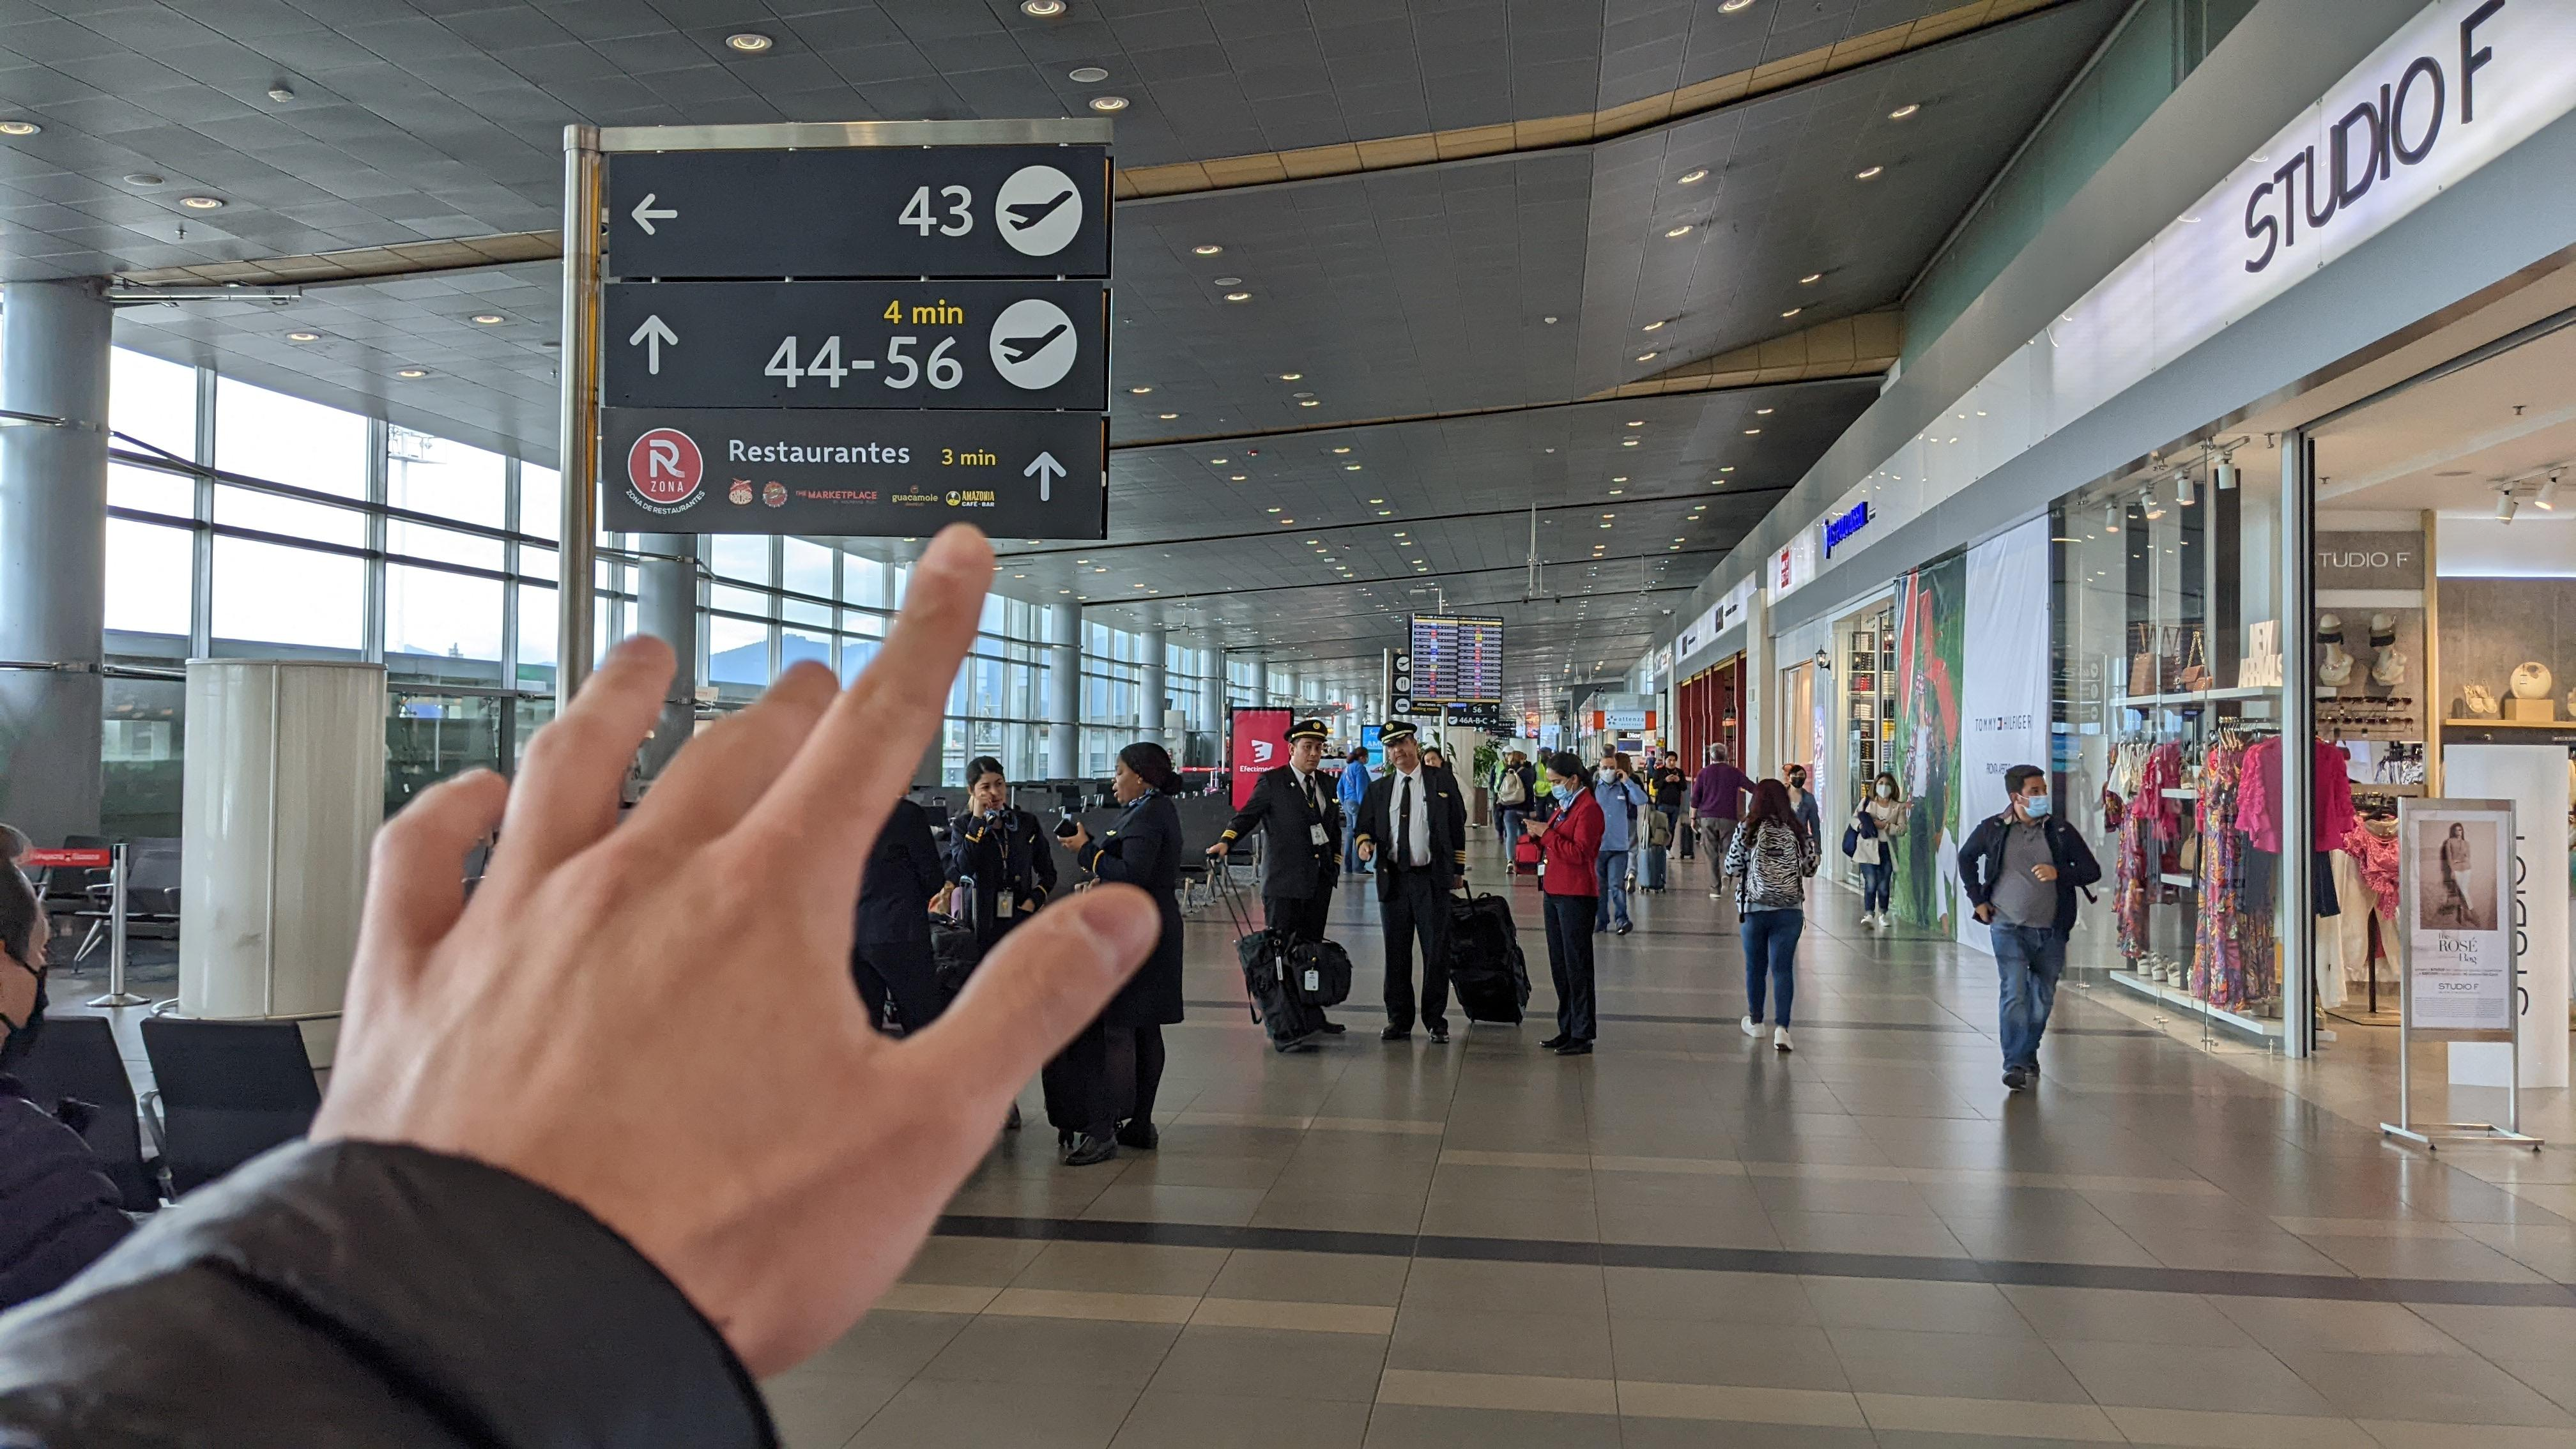airplane symbol: (998, 322, 1070, 368), (1005, 186, 1074, 232), (1398, 660, 1410, 667), (1449, 717, 1456, 722)
left arrow: (628, 191, 681, 239)
restaurants: (1399, 679, 1407, 688)
right arrow: (1490, 718, 1497, 724), (1511, 722, 1516, 727)
up arrow: (628, 311, 681, 377), (1019, 448, 1069, 506), (1490, 704, 1497, 713)
